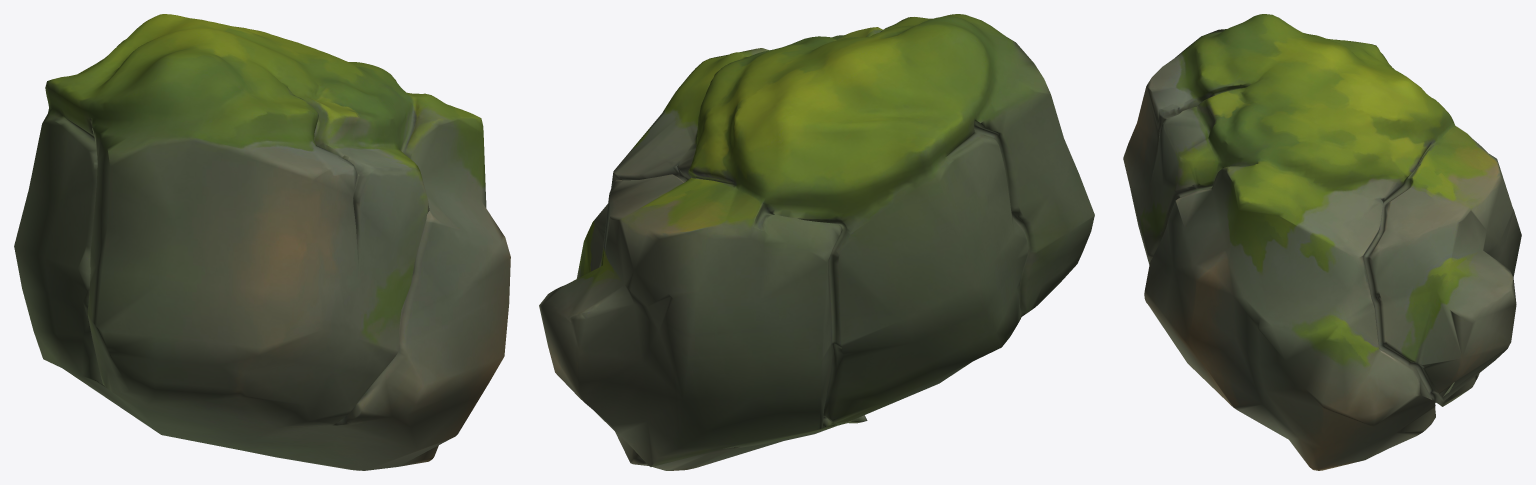
Rendered from Rock_A.fbx.
3 renders of one model, left to right at view 1: azimuth 30°, elevation 25°; view 2: azimuth 150°, elevation 25°; view 3: azimuth 270°, elevation 25°, orthographic. The views are drawn at different scales.
Parts seen in each view (by area): view 1: Rock_A; view 2: Rock_A; view 3: Rock_A.
Part boxes in pixels (bbox=[...]): Rock_A: bbox=[14, 14, 510, 470]; Rock_A: bbox=[539, 14, 1094, 470]; Rock_A: bbox=[1123, 14, 1521, 470].
Bounding box in the file's own units: 2.4 × 2.37 × 2.37.
